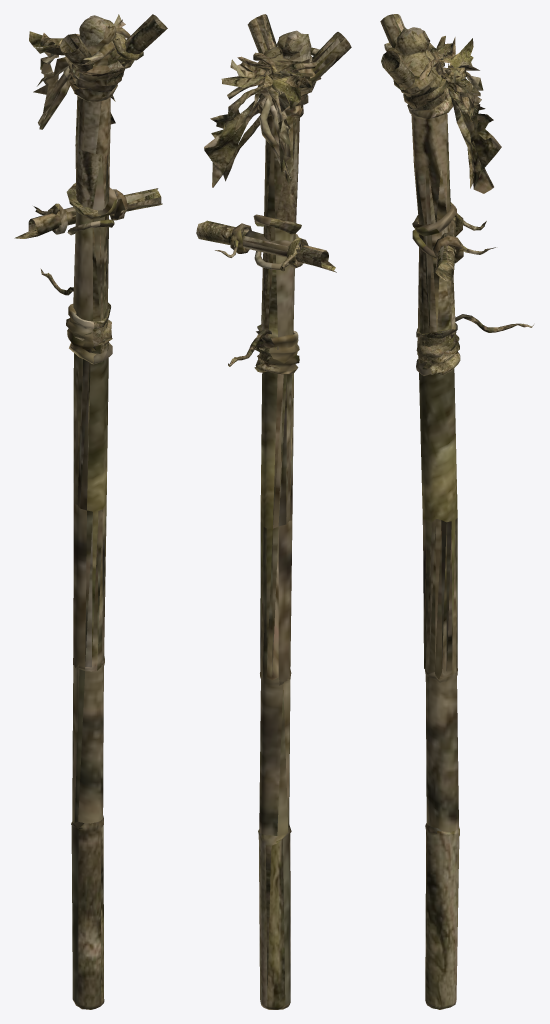
File: mango.obj
3 renders of one model, left to right at view 1: azimuth 30°, elevation 25°; view 2: azimuth 150°, elevation 25°; view 3: azimuth 270°, elevation 25°, orthographic. The views are drawn at different scales.
Visible parts, largest first — view 1: mango; view 2: mango; view 3: mango.
Boxes of the visible parts, x1,y1,x2,y2 form: mango: (14, 14, 167, 1009); mango: (196, 14, 351, 1009); mango: (380, 14, 533, 1009).
Bounding box in the file's own units: 0.1104 × 0.728 × 0.1052.
Materials: 1 (1 with a texture image).
